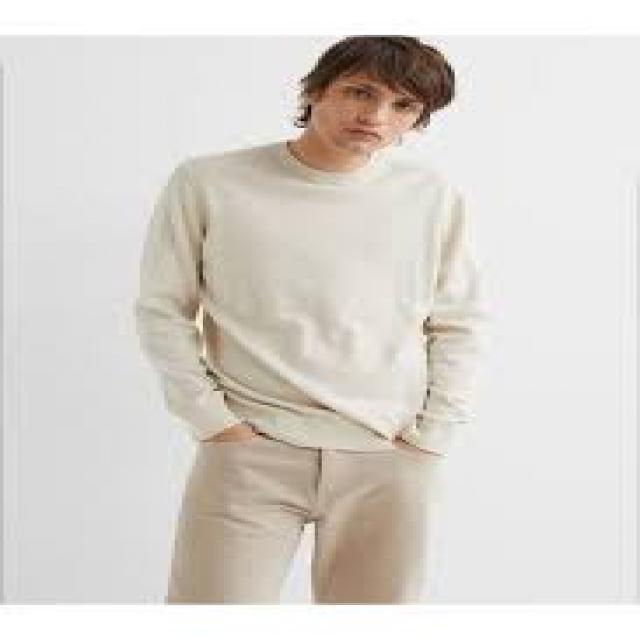plain: (130, 147, 504, 455)
